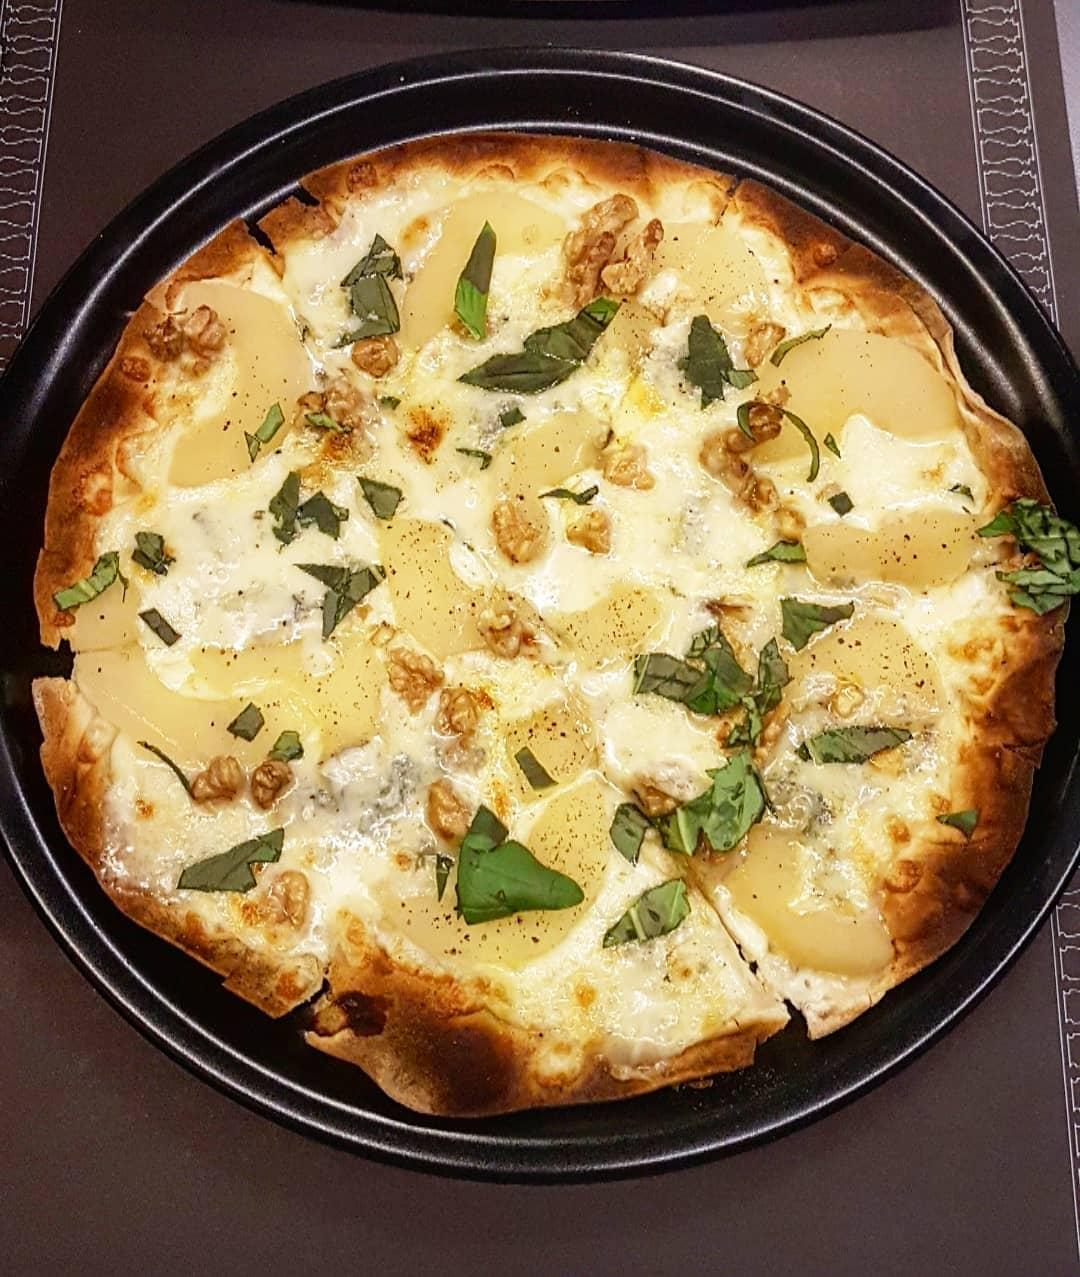Cheese: (431, 277, 588, 422), (544, 900, 738, 1016), (565, 481, 735, 584), (155, 511, 329, 610), (315, 735, 414, 892), (299, 211, 404, 351)
Pizza: (32, 124, 1076, 1105)
